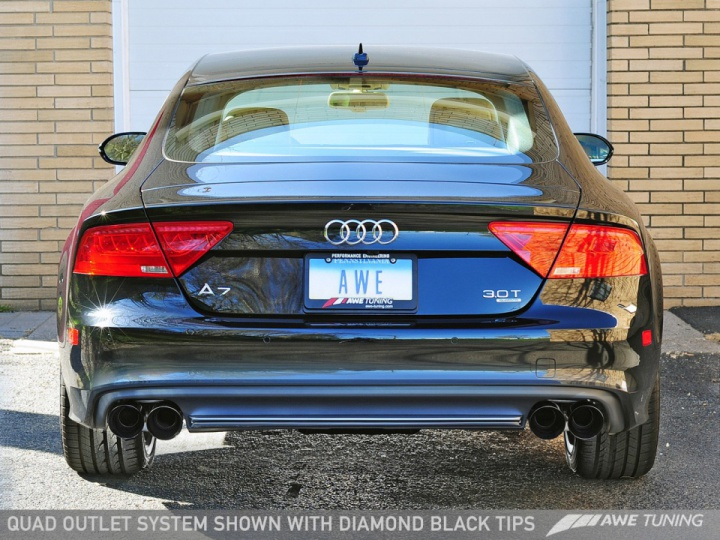audi: (315, 210, 404, 251)
